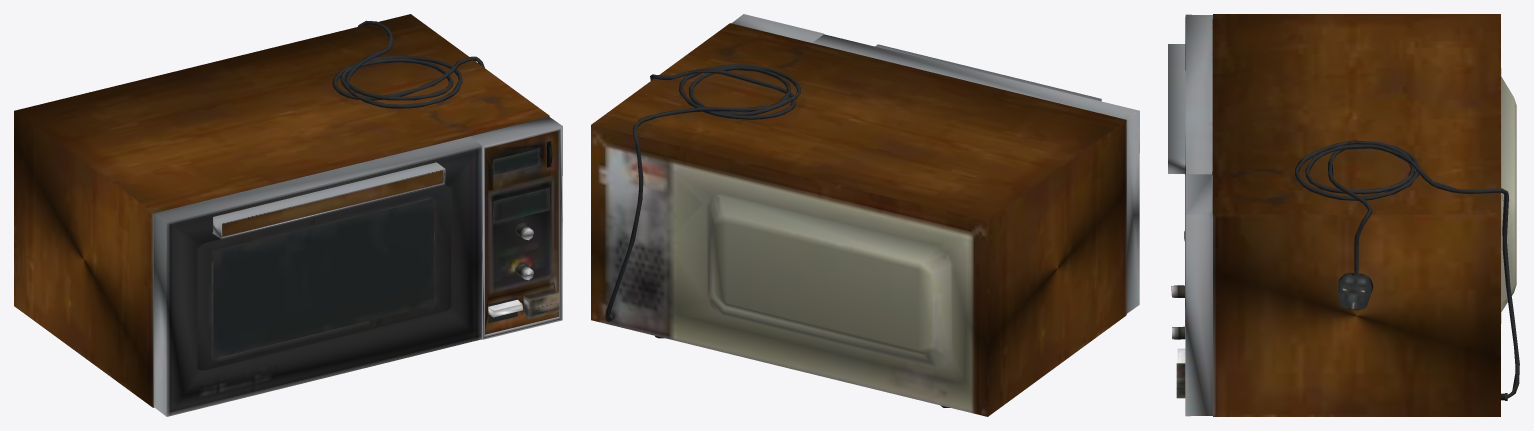
The model's file is vintage_microwave.glb.
3 renders of one model, left to right at view 1: azimuth 30°, elevation 25°; view 2: azimuth 150°, elevation 25°; view 3: azimuth 270°, elevation 25°, orthographic. The views are drawn at different scales.
Parts seen in each view (by area): view 1: vintage_microwave, vintage_microwave_lo; view 2: vintage_microwave, vintage_microwave_lo; view 3: vintage_microwave, vintage_microwave_lo.
Part boxes in pixels (box(x1,y1,x2,y2)): vintage_microwave: box(14, 14, 562, 416); vintage_microwave_lo: box(14, 14, 562, 416); vintage_microwave: box(591, 14, 1139, 416); vintage_microwave_lo: box(591, 14, 1139, 378); vintage_microwave: box(1168, 14, 1519, 416); vintage_microwave_lo: box(1176, 14, 1513, 416).
Bounding box in the file's own units: 1.07 × 0.5258 × 0.7446.
Materials: 2 (2 with a texture image).
